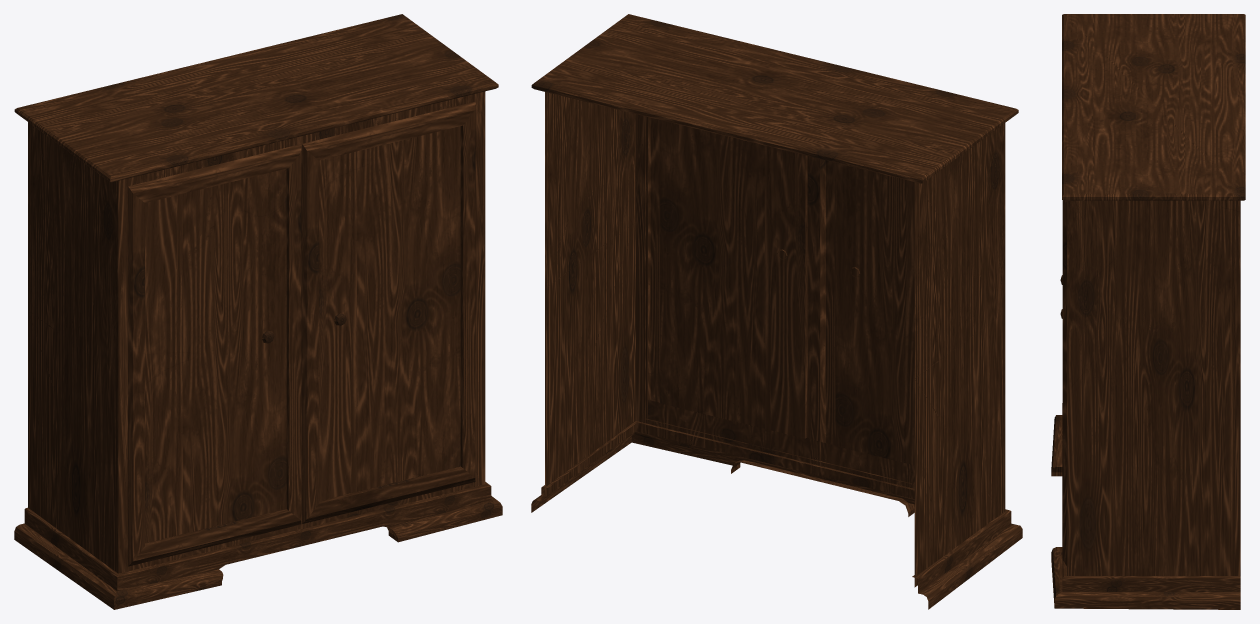
Rendered from Closet.fbx.
3 renders of one model, left to right at view 1: azimuth 30°, elevation 25°; view 2: azimuth 150°, elevation 25°; view 3: azimuth 270°, elevation 25°, orthographic. The views are drawn at different scales.
Visible parts, largest first — view 1: Шкаф; view 2: Шкаф; view 3: Шкаф.
Boxes of the visible parts, x1,y1,x2,y2 form: Шкаф: (14, 14, 502, 609); Шкаф: (531, 14, 1022, 609); Шкаф: (1051, 14, 1245, 609).
Bounding box in the file's own units: 95.42 × 215 × 224.
